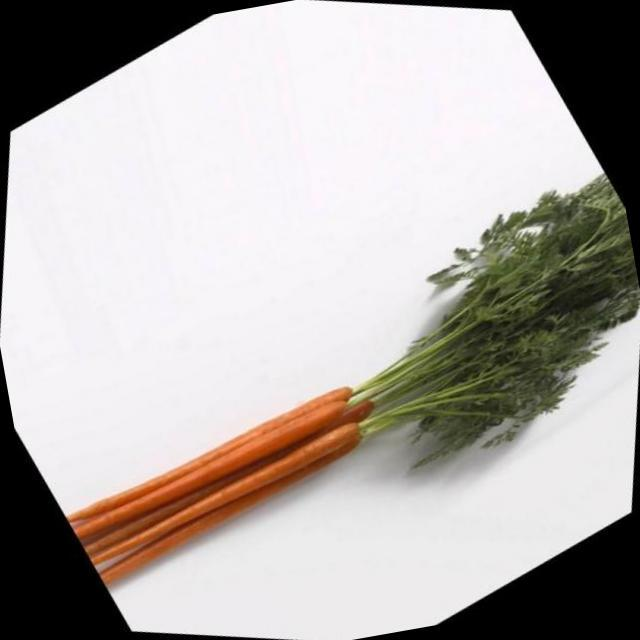carrot: (23, 295, 444, 640), (50, 338, 414, 640), (39, 320, 377, 610)
